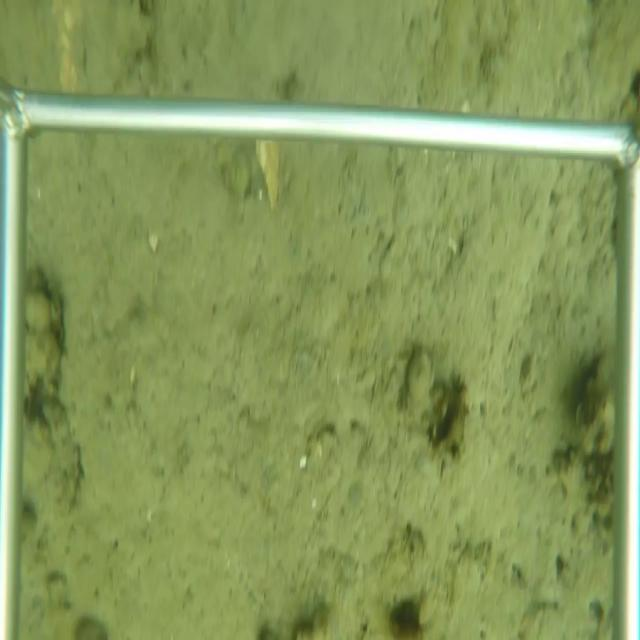Oyster-Indeterminate: (43, 398, 84, 514)
